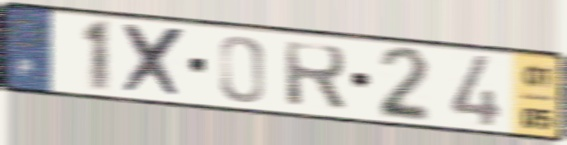0: (216, 34, 267, 105)
1: (80, 16, 119, 97)
2: (376, 43, 433, 125)
4: (447, 51, 505, 131)
R: (280, 39, 350, 114)
X: (120, 21, 189, 102)
